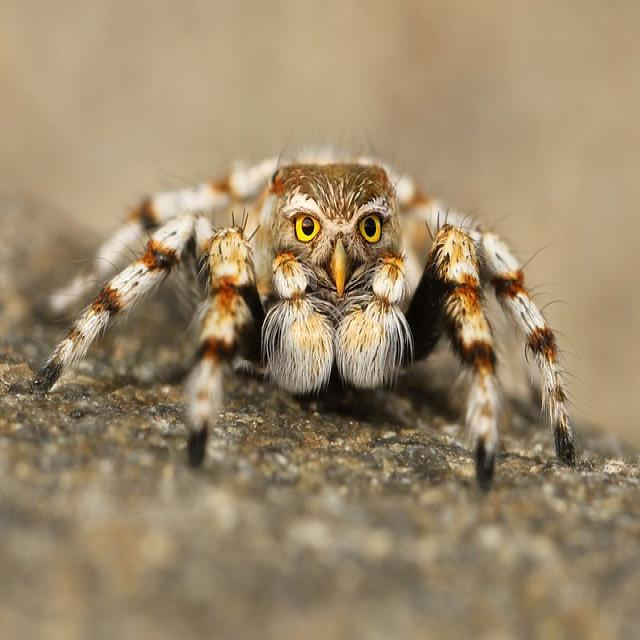spyder: (34, 155, 575, 488)
